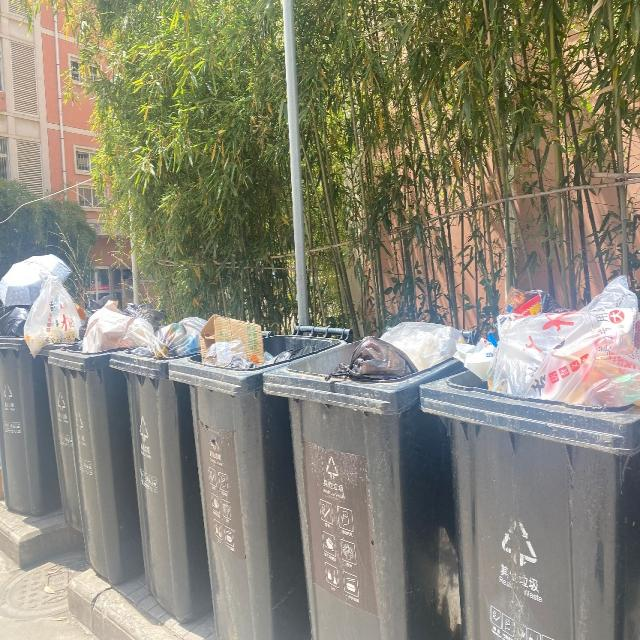overflow: (421, 275, 639, 639), (263, 321, 477, 639), (168, 311, 353, 639), (47, 299, 161, 584), (110, 313, 210, 628), (0, 252, 86, 515)
